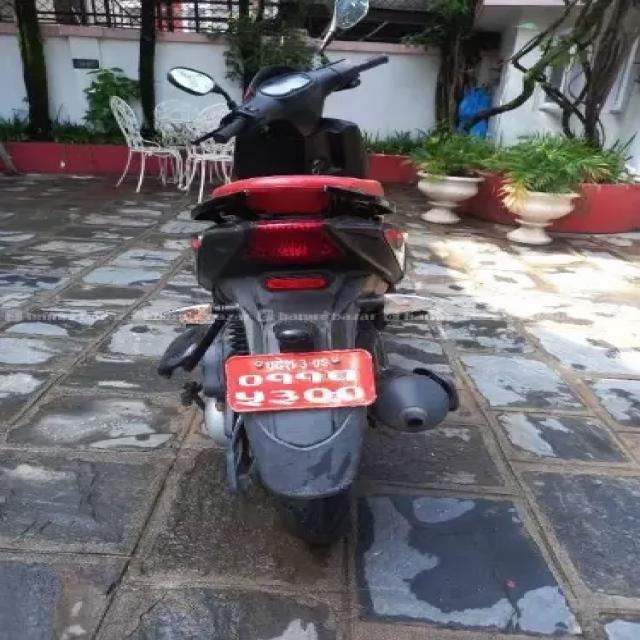License-plate: (227, 351, 378, 410)
